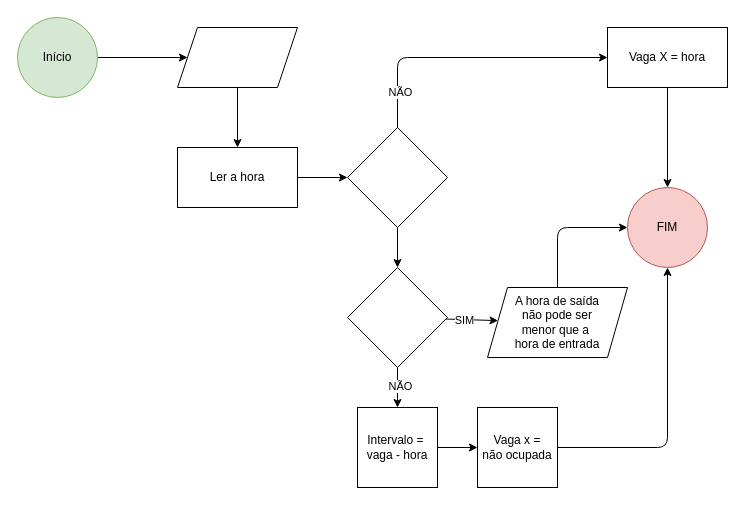
Some shapes in this 745 by 505 pixel diagram are drawn without their labels. Each missing label, with the centre of its shape:
hora < vaga[x]: the point at 397,317
Informe a Hora: the point at 237,57
É uma vaga ocupada: the point at 397,177
